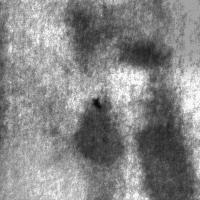patches: (130, 76, 195, 200), (110, 0, 200, 72), (0, 134, 94, 200), (62, 4, 136, 72), (72, 96, 125, 167), (107, 35, 179, 75)
